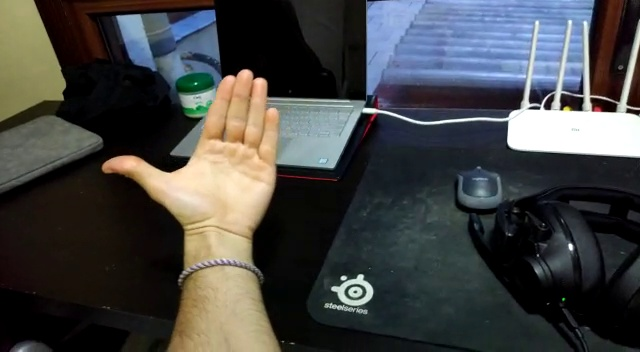Palm: (99, 63, 280, 246)
